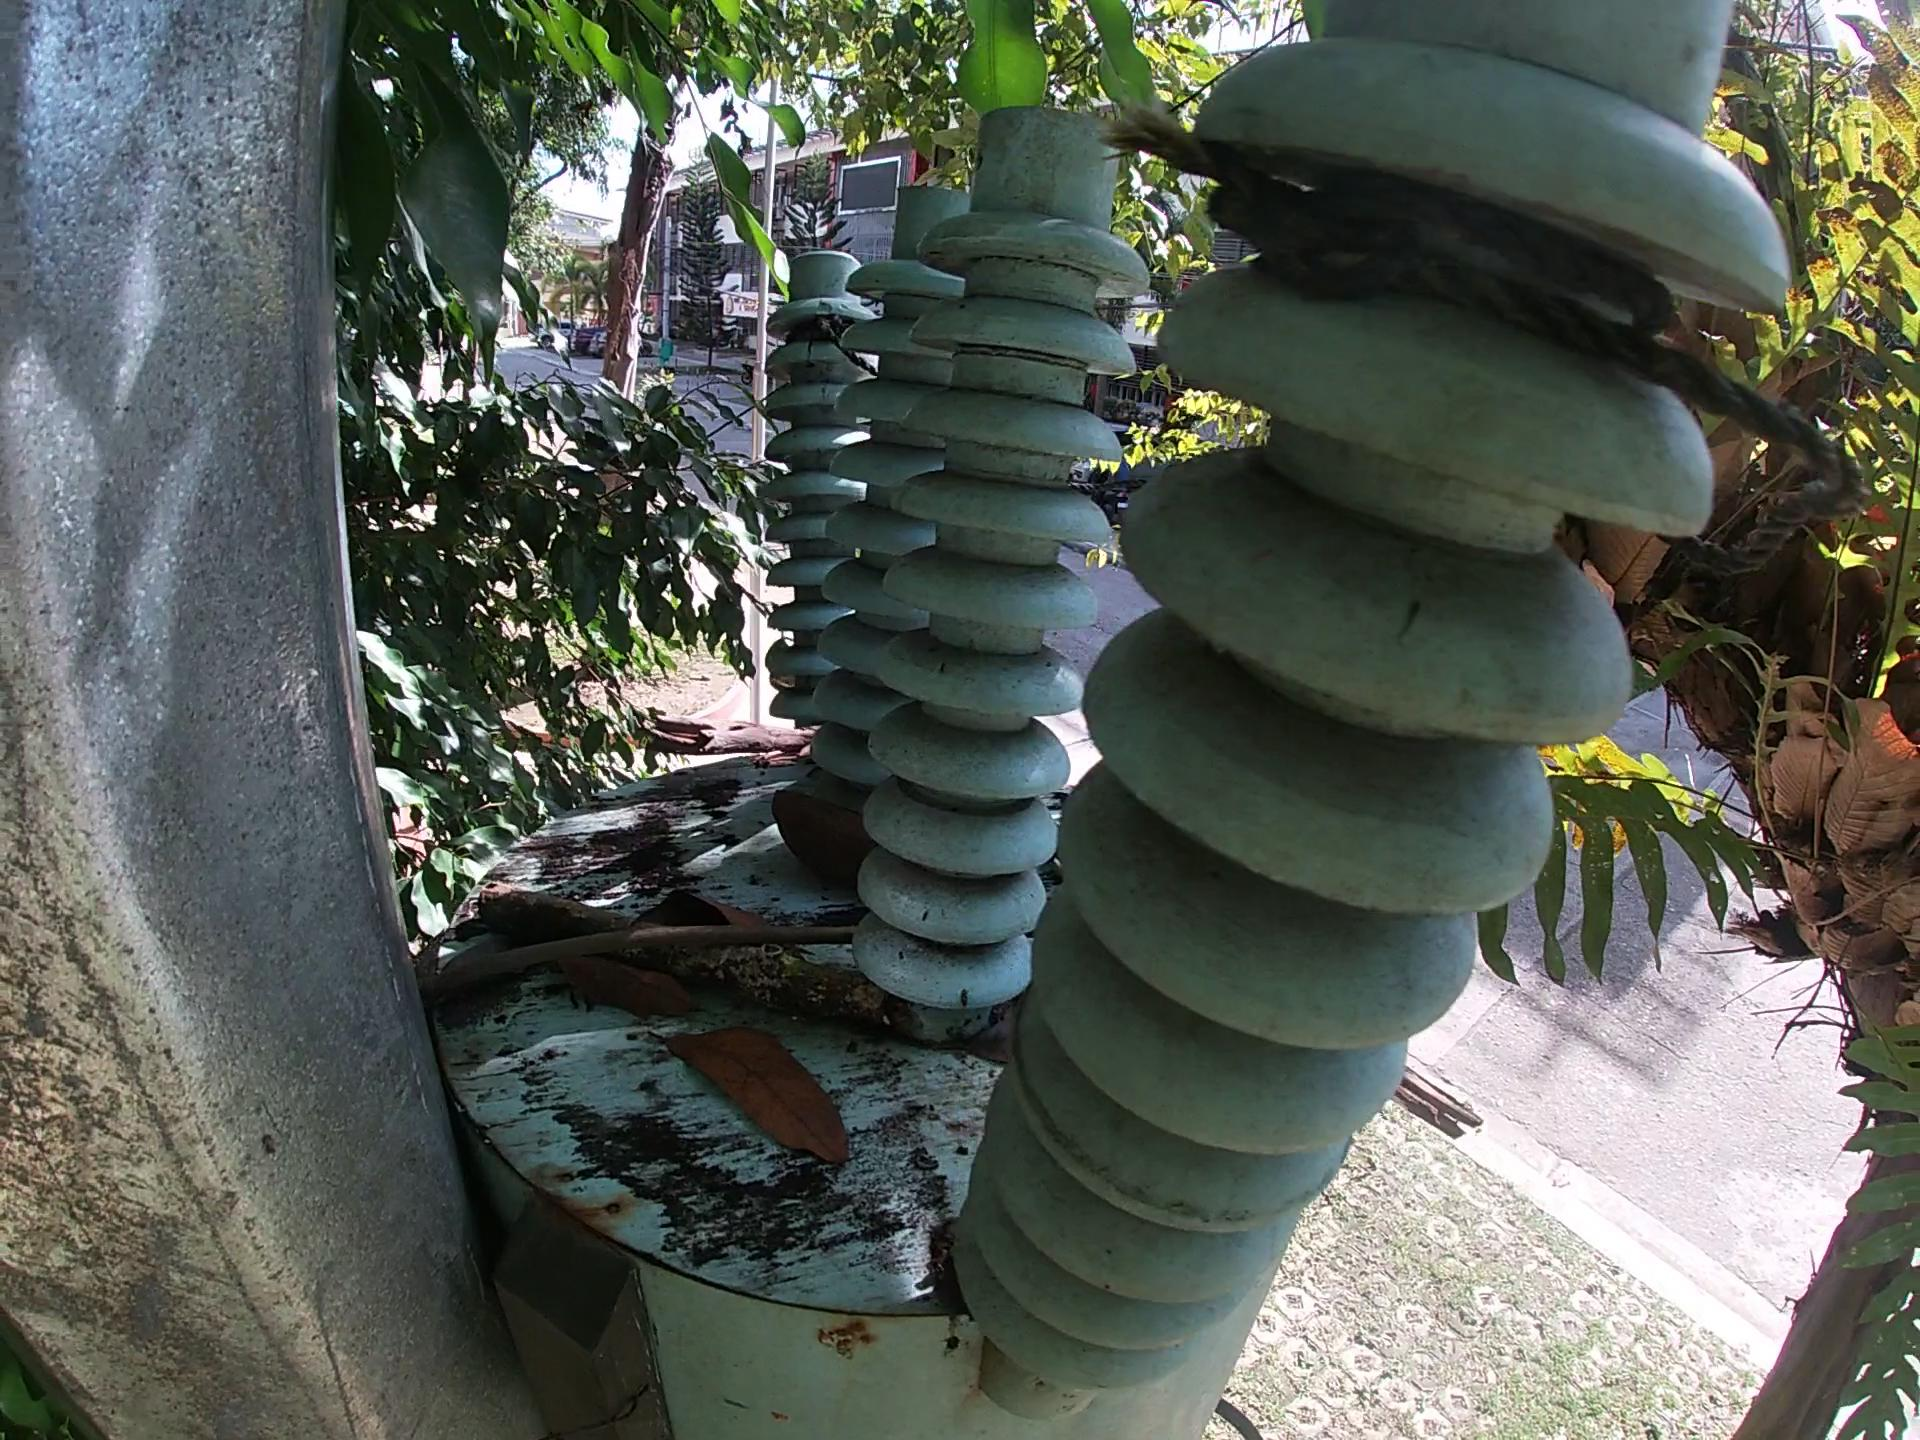leaf: (649, 1027, 859, 1172), (553, 951, 708, 1023), (624, 886, 777, 935)
mahogany fruit: (765, 784, 878, 897)
tree branch: (478, 879, 897, 1029), (410, 923, 863, 1004), (635, 706, 815, 765), (1386, 1063, 1482, 1144)
